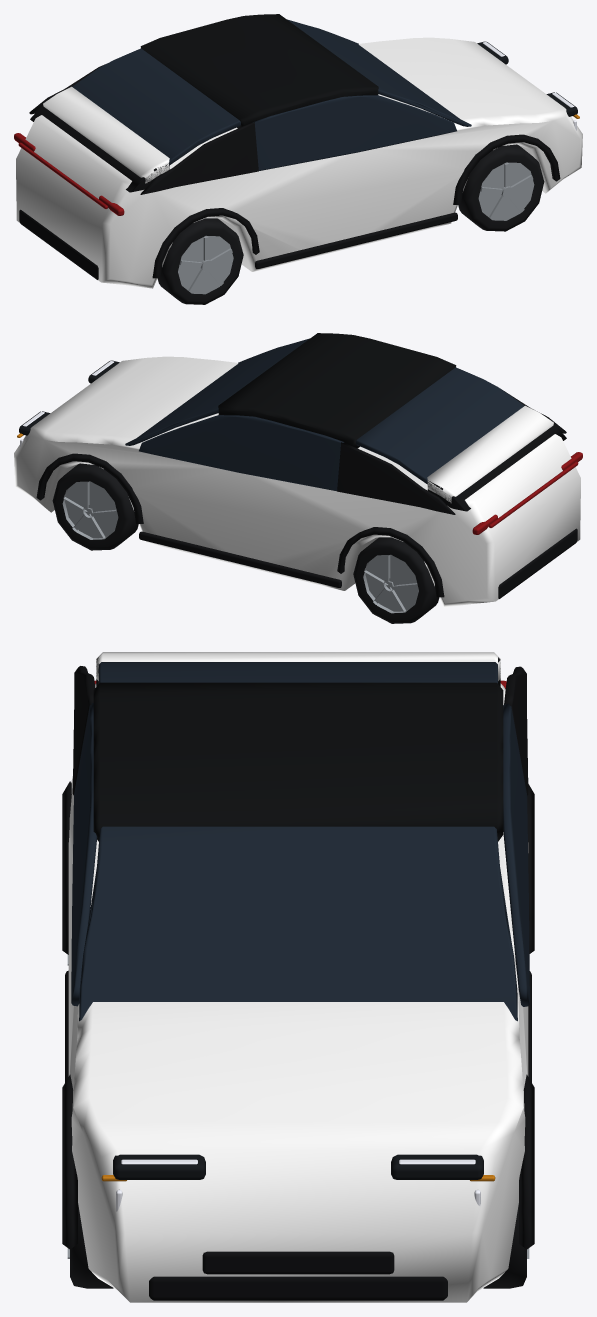
The model's file is car-parked.glb.
The picture shows the model from 3 angles, top to bottom: view 1: azimuth 30°, elevation 25°; view 2: azimuth 150°, elevation 25°; view 3: azimuth 270°, elevation 25°; orthographic projection. The views are drawn at different scales.
Visible parts, largest first — view 1: Parked_paint, Parked_glass, Parked_roof, Parked_black, Parked_tyre, Parked_rim, Parked_tail, Parked_lens; view 2: Parked_paint, Parked_glass, Parked_roof, Parked_black, Parked_tyre, Parked_rim, Parked_tail, Parked_lens; view 3: Parked_paint, Parked_glass, Parked_roof, Parked_black, Parked_lens, Parked_tyre, Parked_led.
Part boxes in pixels (bbox=[...]): Parked_paint: bbox=[16, 37, 582, 288]; Parked_glass: bbox=[72, 19, 471, 170]; Parked_roof: bbox=[140, 14, 378, 128]; Parked_black: bbox=[19, 64, 560, 279]; Parked_tyre: bbox=[157, 144, 544, 304]; Parked_rim: bbox=[178, 162, 534, 294]; Parked_tail: bbox=[14, 133, 124, 215]; Parked_lens: bbox=[477, 41, 577, 116]; Parked_paint: bbox=[14, 356, 580, 607]; Parked_glass: bbox=[125, 338, 524, 491]; Parked_roof: bbox=[218, 333, 456, 448]; Parked_black: bbox=[36, 390, 577, 598]; Parked_tyre: bbox=[52, 463, 439, 623]; Parked_rim: bbox=[62, 481, 418, 613]; Parked_tail: bbox=[472, 452, 582, 534]; Parked_lens: bbox=[19, 360, 119, 435]; Parked_paint: bbox=[68, 652, 528, 1302]; Parked_glass: bbox=[71, 662, 529, 1021]; Parked_roof: bbox=[93, 682, 503, 841]; Parked_black: bbox=[62, 657, 534, 1300]; Parked_lens: bbox=[113, 1154, 483, 1179]; Parked_tyre: bbox=[70, 1203, 526, 1288]; Parked_led: bbox=[116, 1159, 480, 1211].
Bounding box in the file's own units: 4.33 × 1.52 × 1.83.
